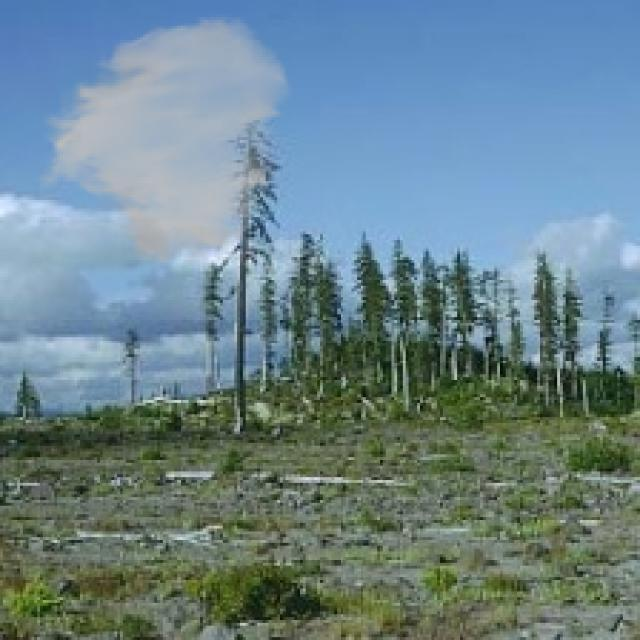Smoke: (34, 14, 294, 269)
